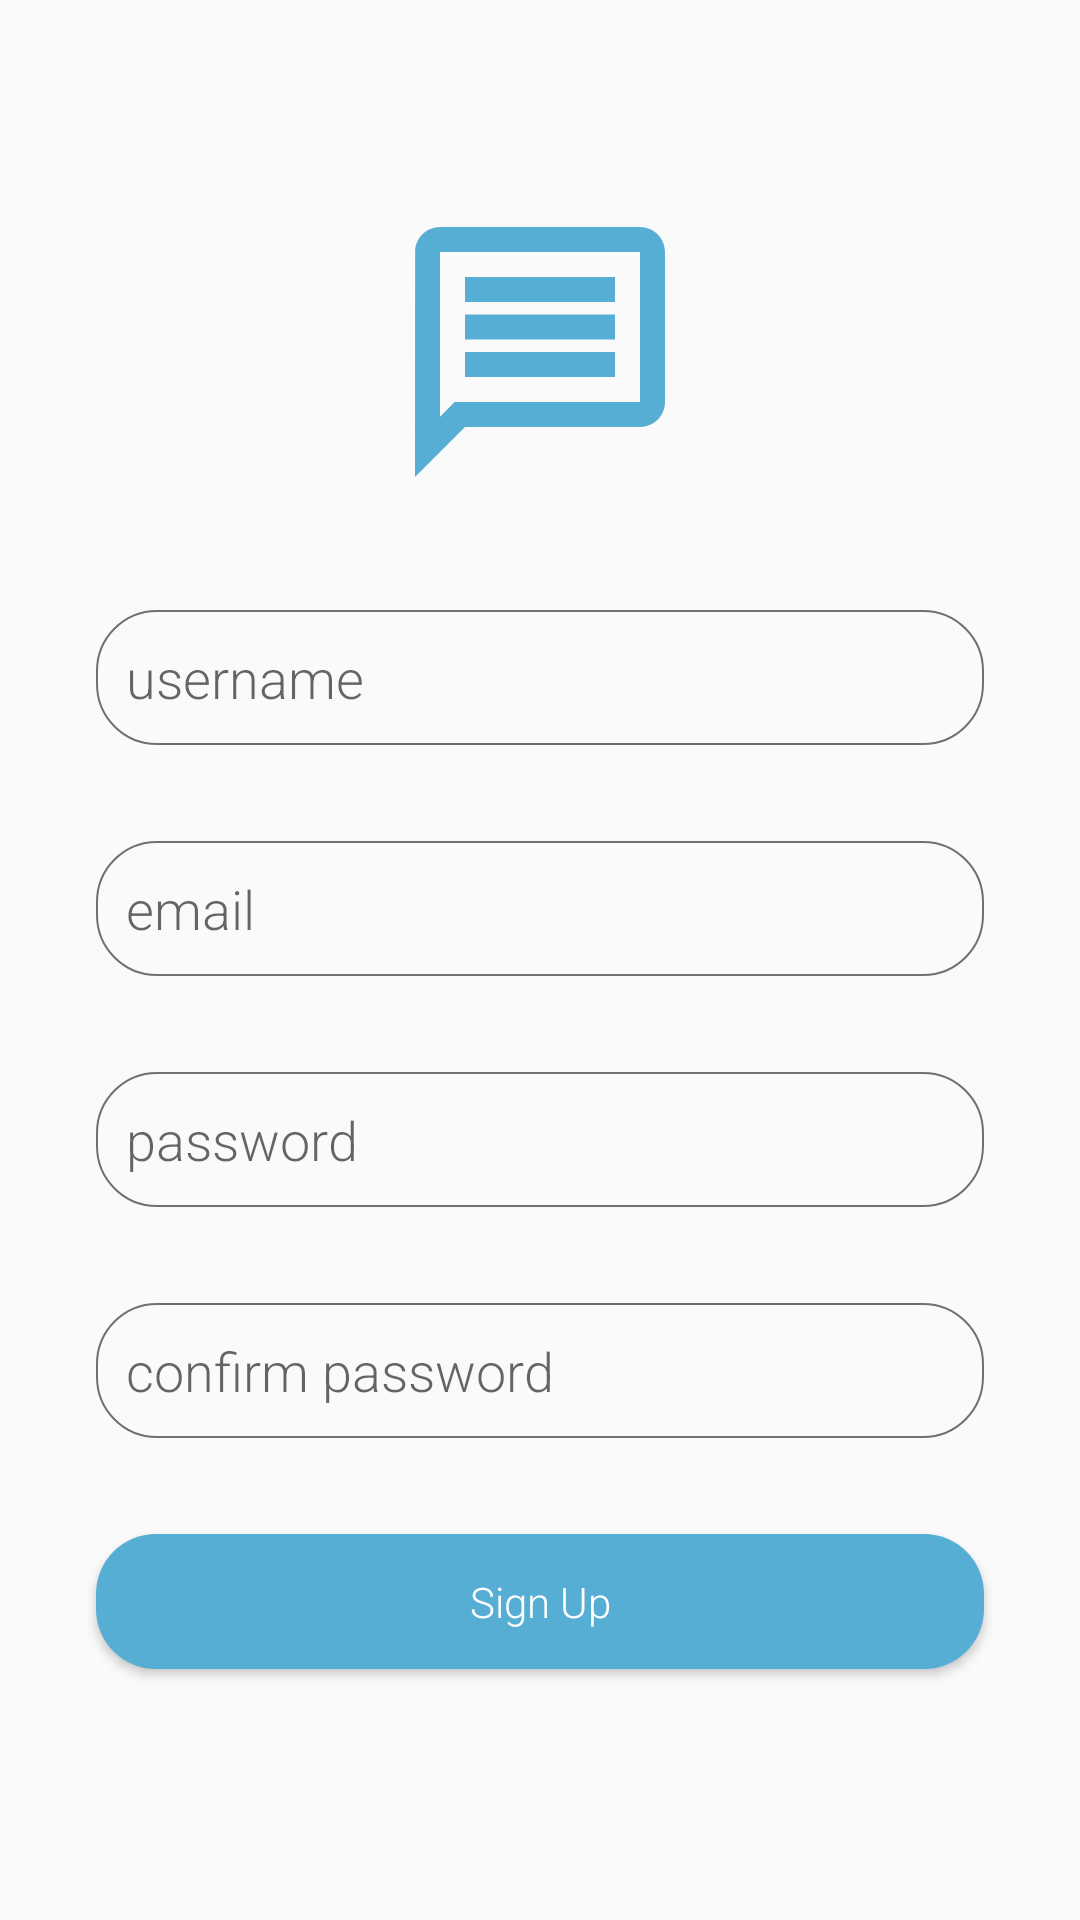

Named icons in this screenshot (1080×1920) and their bounding boxes, detection(x1, y1, x2, y2):
message: detection(415, 227, 665, 477)
